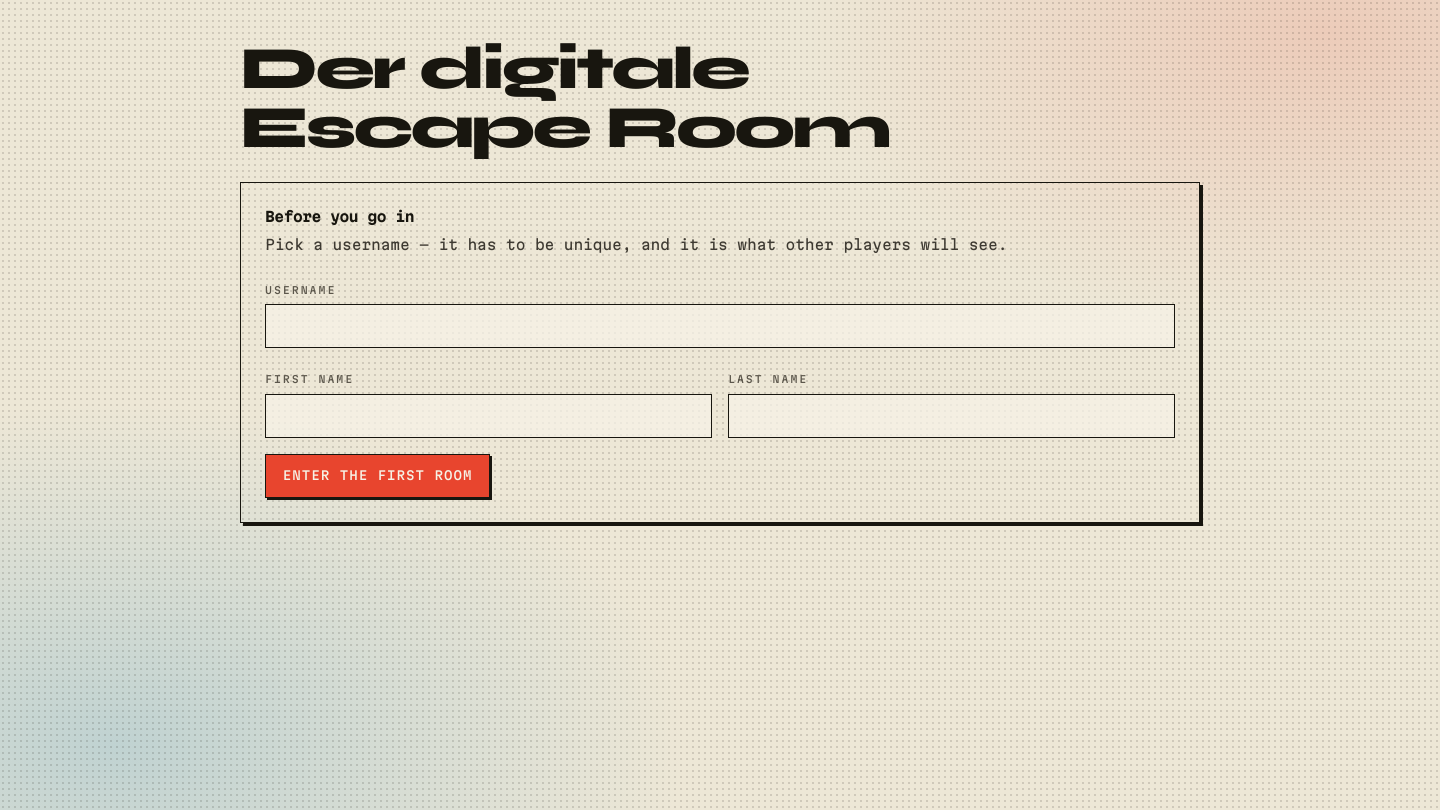
App › signed in without a username › explains that a username is taken rather than failing generically
This screenshot has width=1440, height=810.
Expected: the heading "Before you go in" is shown, [265,208,414,225]
Type "taken" into the field labelled "Username" at [720, 326], box [265,304,1175,348]
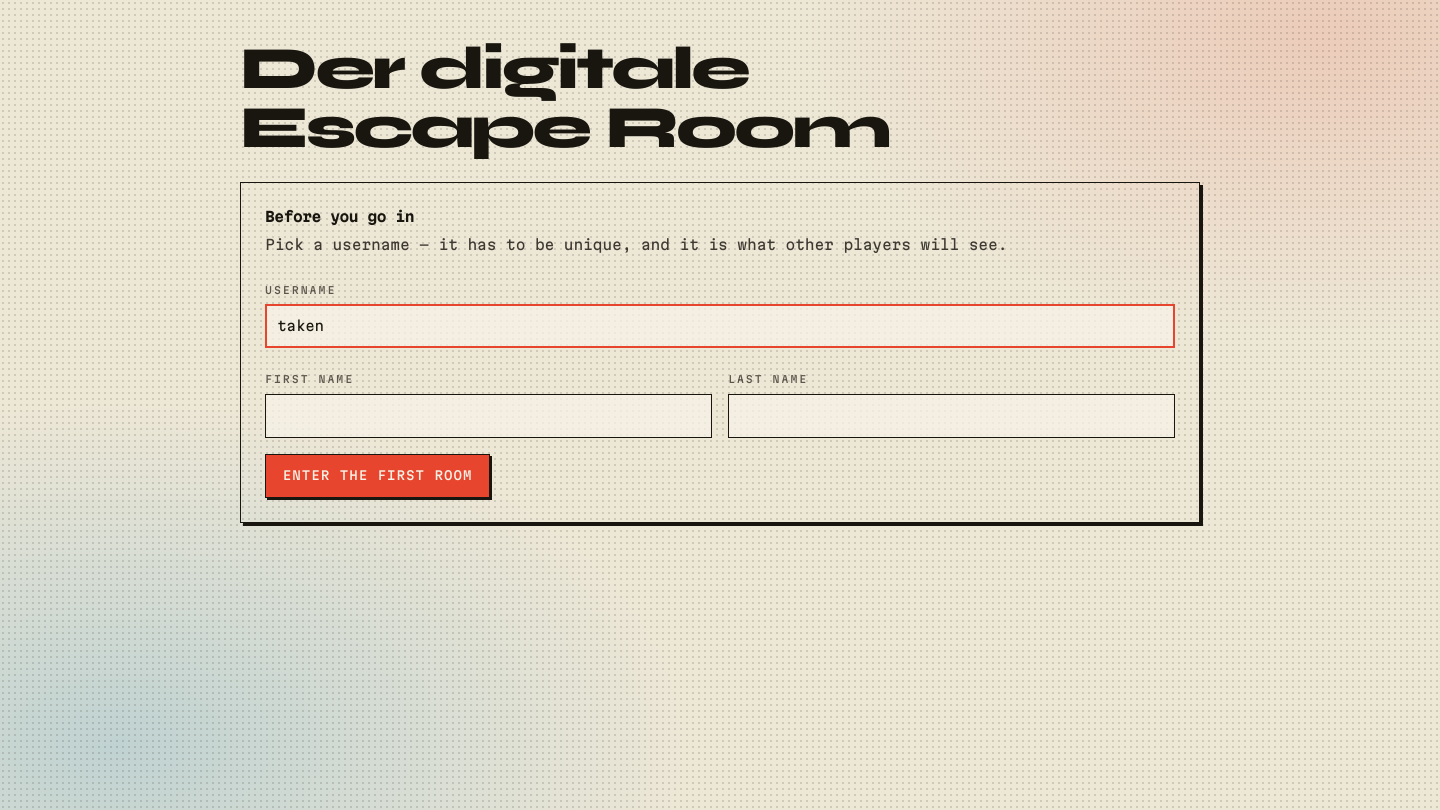
Type "Nepomuk" into the field labelled "First name" at [488, 416], box [265,394,712,438]
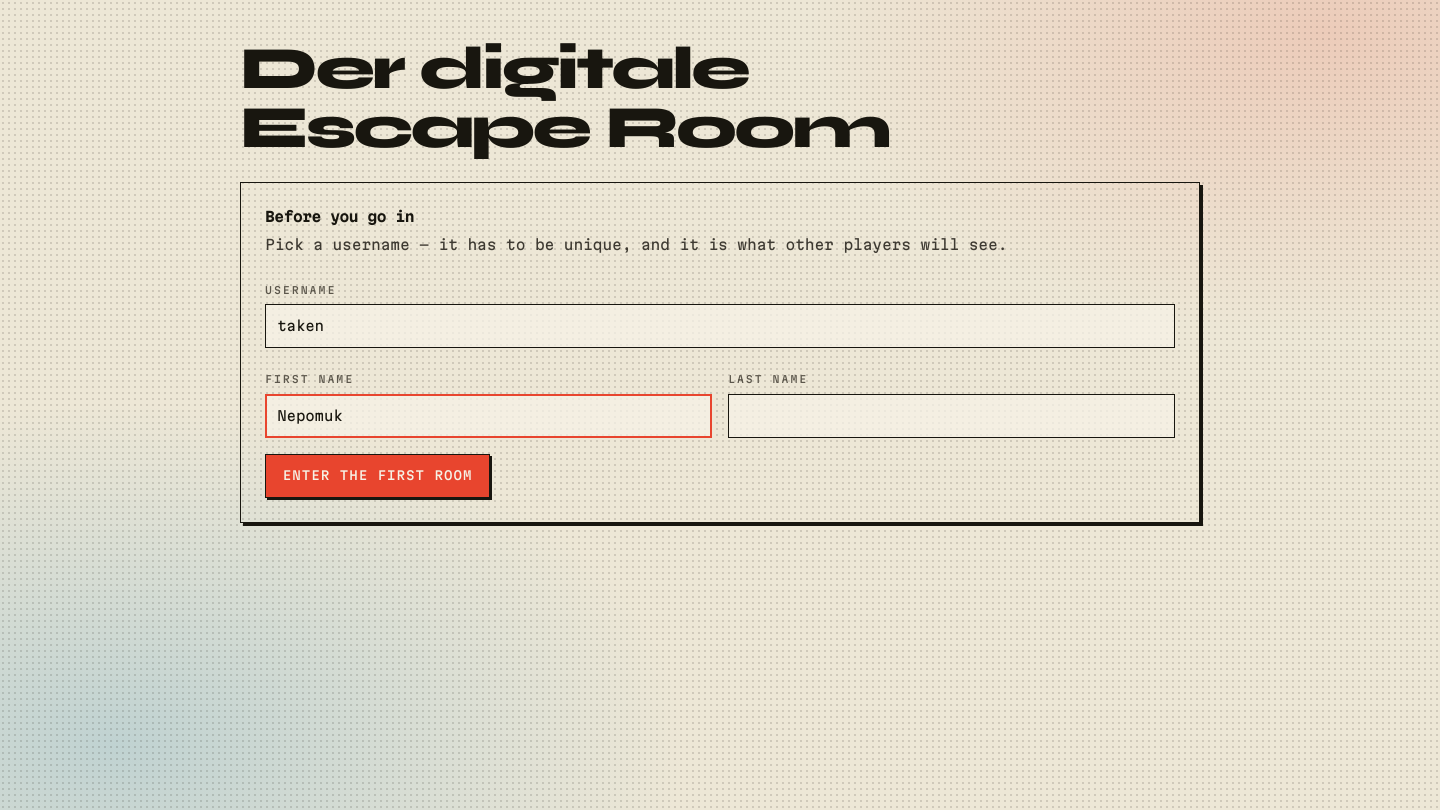
Type "Crhonek" into the field labelled "Last name" at [952, 416], box [728,394,1175,438]
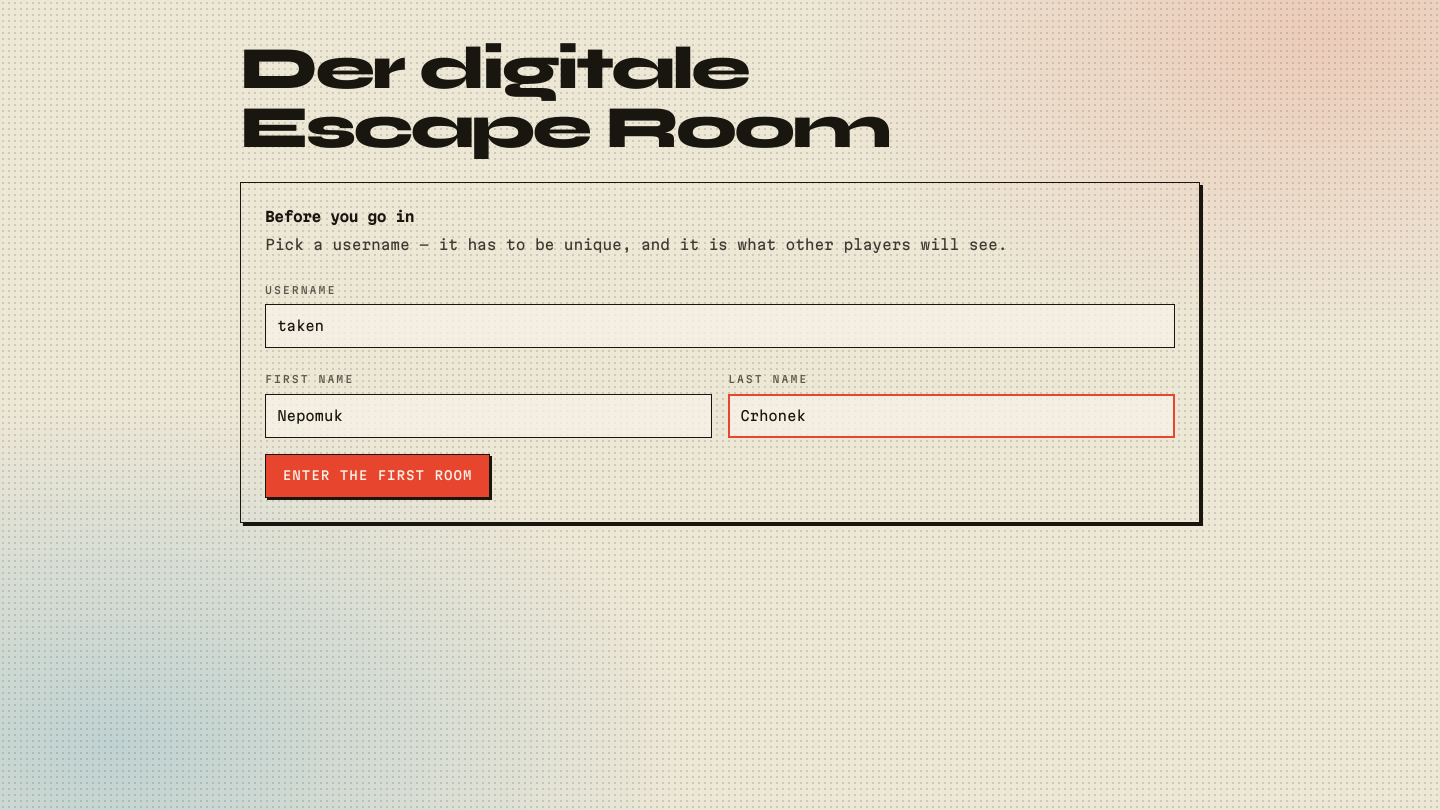
Click the button "Enter the first room" at [378, 476], box [265,454,490,498]
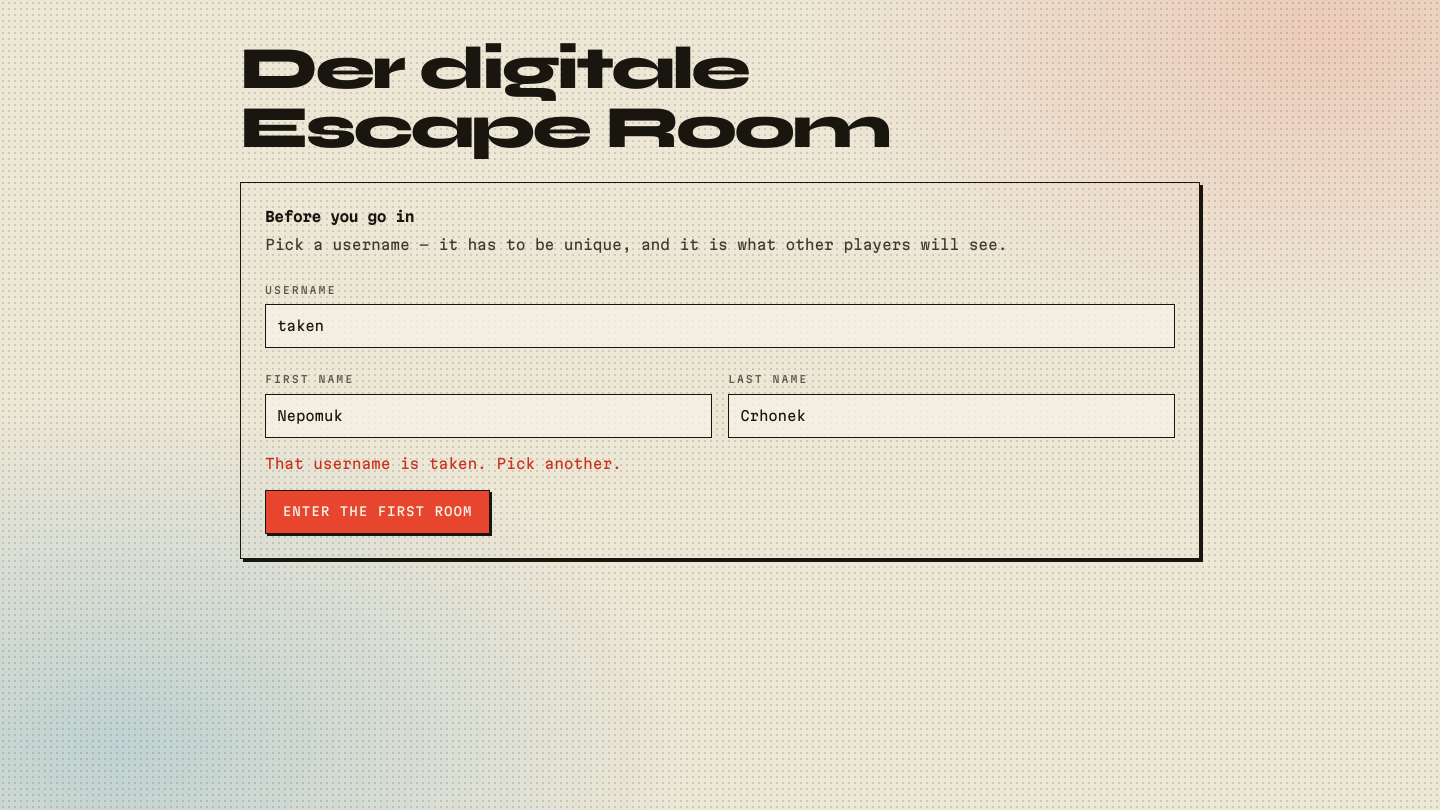
Expected: the message shows "taken", [265,455,622,472]
